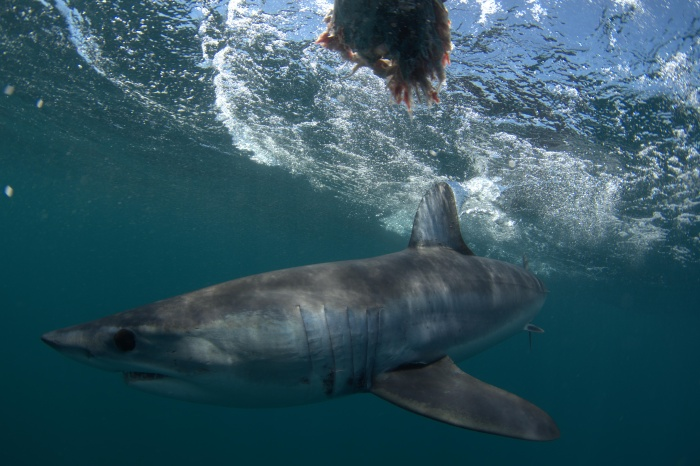Mako: (36, 178, 609, 443)
